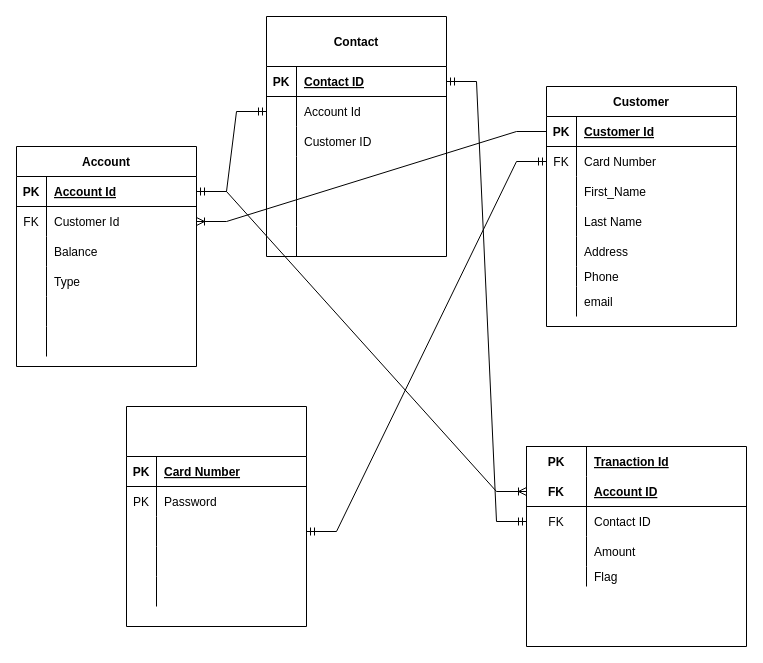
This 763x663 diagram has some shape labels left out. Each missing label, with the box of its shape:
Log in: (126, 406, 306, 626)
Transaction: (526, 446, 746, 646)
